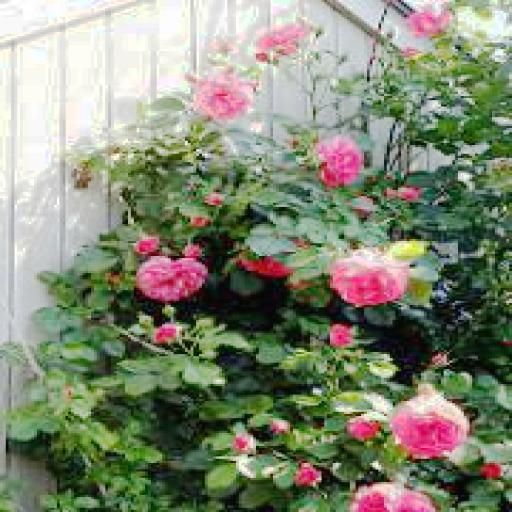rose: (396, 392, 470, 454), (336, 245, 410, 303), (310, 132, 361, 182), (145, 254, 205, 296), (191, 75, 256, 113)
